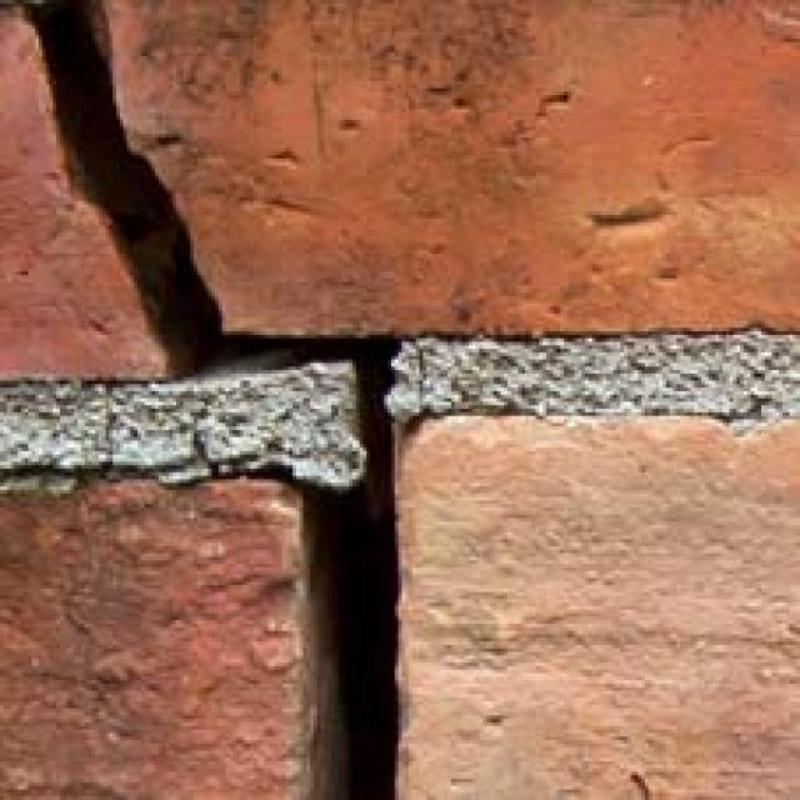pothole: (22, 0, 400, 799)
